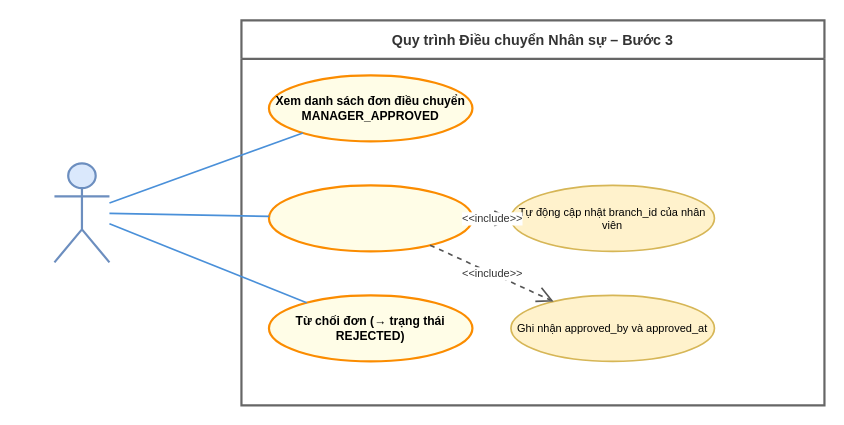
This 844x425 diagram has some shape labels left out. The shapes that lost their labels are listed below. From the top down, each one's box as (x1, y1, x2, y2) in pixels, then its label:
(53, 162, 110, 263): Quản trị viên (ADMIN)
(267, 184, 473, 252): Phê duyệt cuối cùng (→ trạng thái APPROVED)
